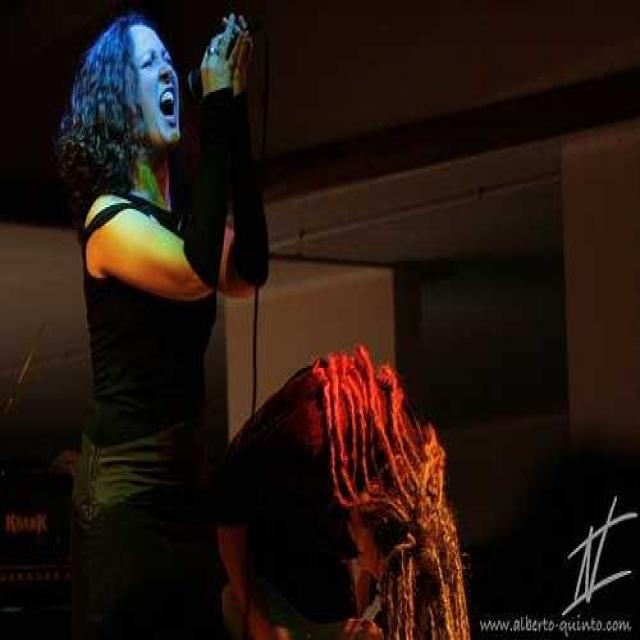microphone: (182, 10, 259, 111)
